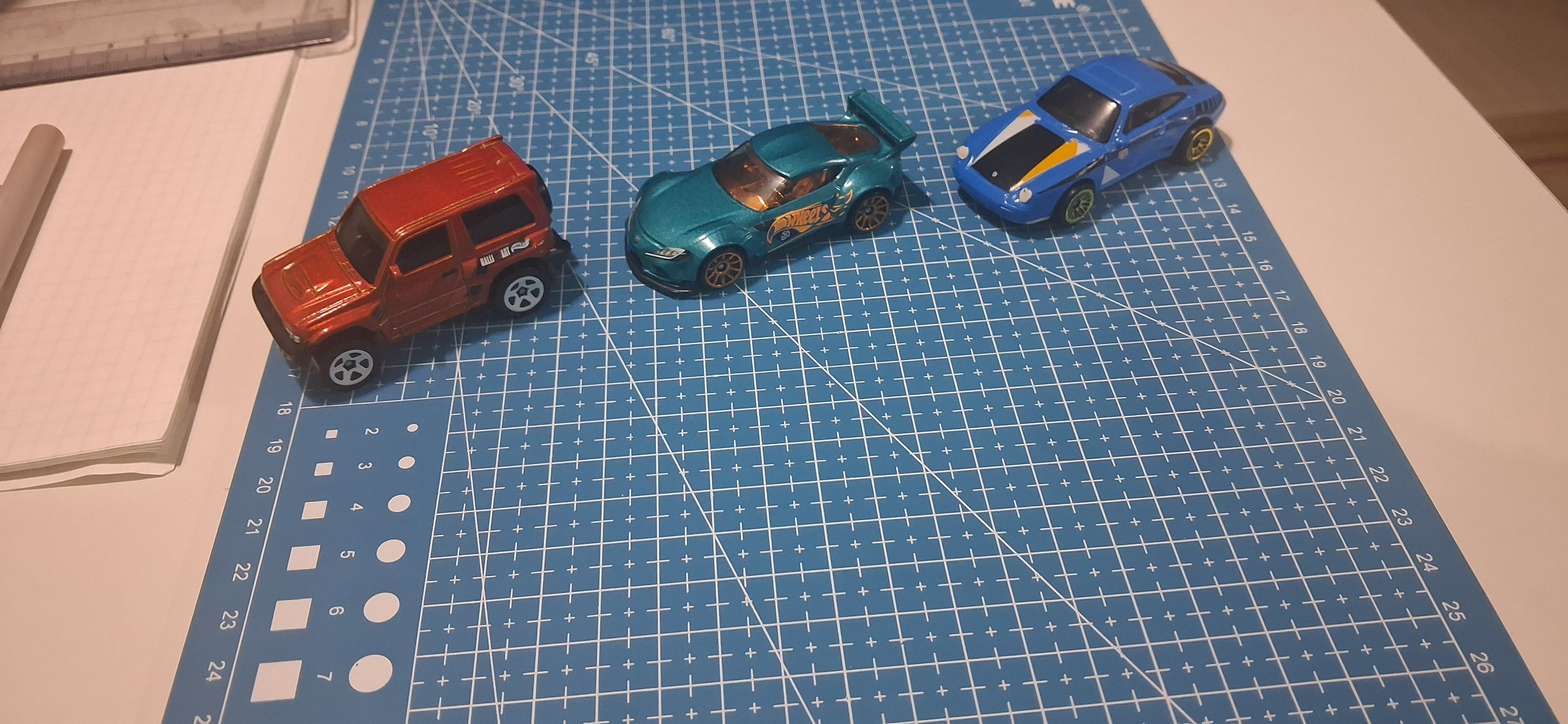Mitsubishi_Pajero_Evolution: (245, 82, 563, 442)
Porsche_Carrera: (942, 17, 1247, 286)
Toyota_GR_Supra: (608, 37, 925, 344)
